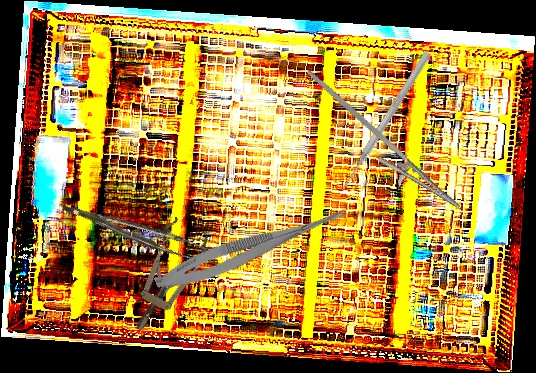Micro Scissor: (151, 192, 358, 299)
Needle Holder: (282, 68, 476, 223)
Pusher: (337, 49, 433, 194)
Speculum: (116, 214, 215, 341)
Tissue Forceps: (62, 188, 207, 270)
